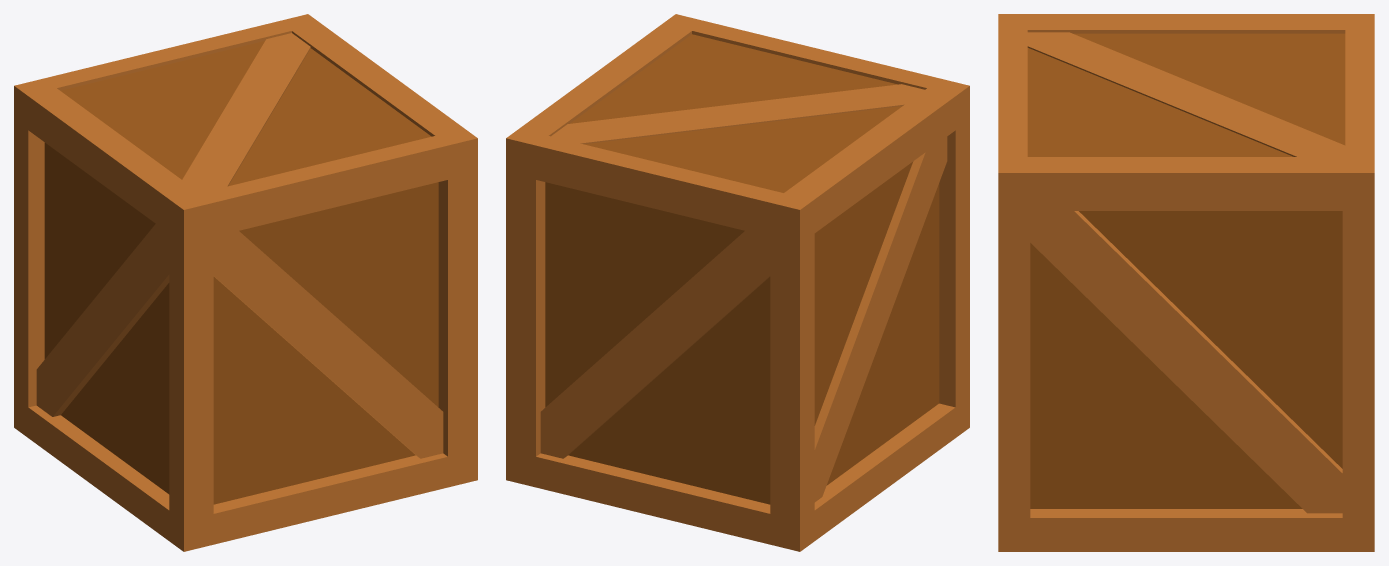
The picture shows the model from 3 angles, left to right: view 1: azimuth 30°, elevation 25°; view 2: azimuth 150°, elevation 25°; view 3: azimuth 270°, elevation 25°; orthographic projection. The views are drawn at different scales.
Parts seen in each view (by area): view 1: Box1; view 2: Box1; view 3: Box1.
Part boxes in pixels (x1,y1,x2,y2): Box1: [14, 14, 477, 551]; Box1: [506, 14, 969, 551]; Box1: [998, 14, 1374, 551].
Size of the model in its own units: 0.9 by 1 by 0.9.
